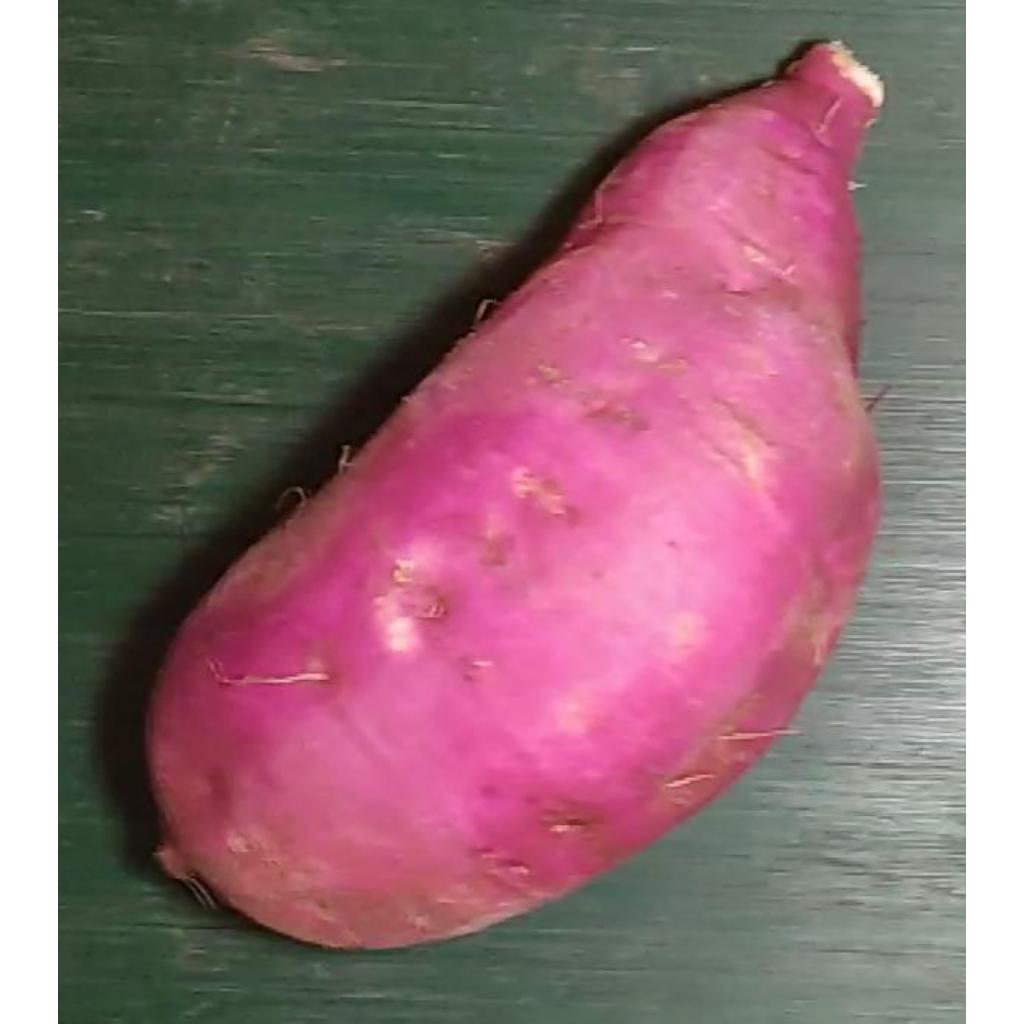Sweet Potato: (132, 40, 885, 956)
